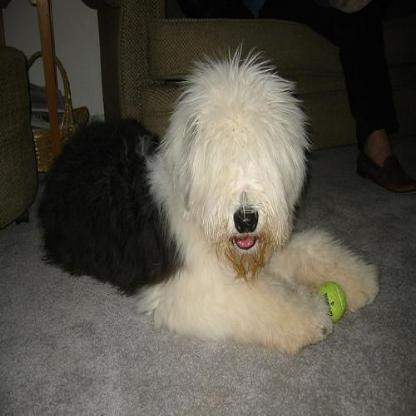Old_English_sheepdog: (37, 42, 378, 352)
